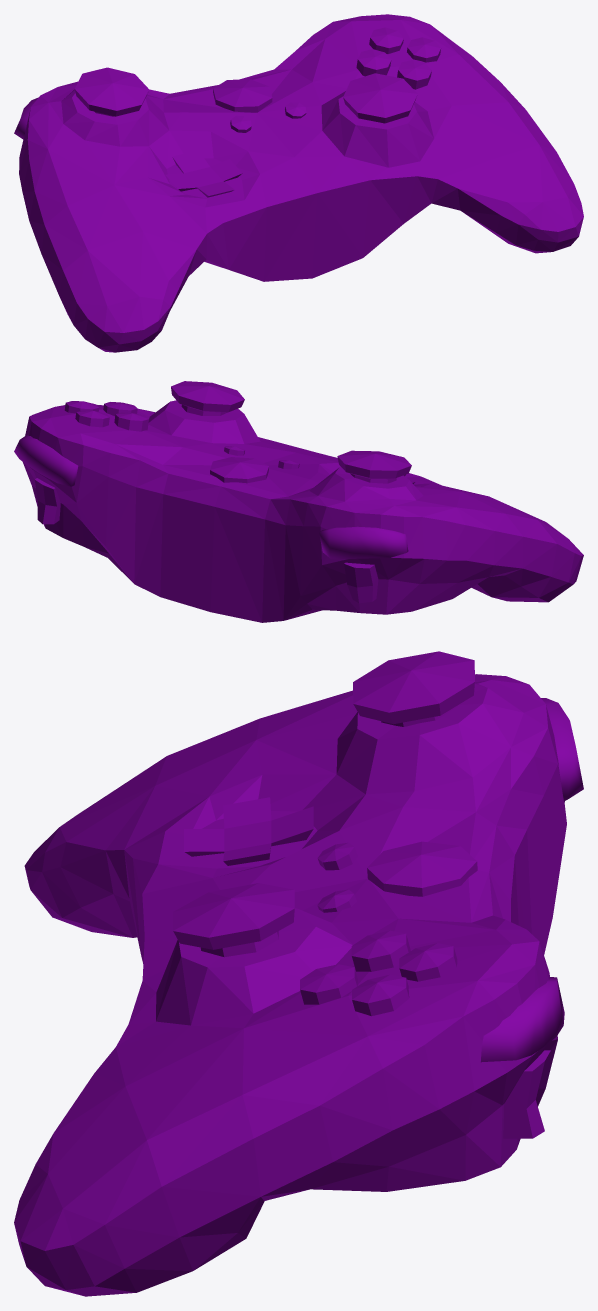
File: Xbox_Controller_LP.glb
3 renders of one model, top to bottom at view 1: azimuth 30°, elevation 25°; view 2: azimuth 150°, elevation 25°; view 3: azimuth 270°, elevation 25°, orthographic. The views are drawn at different scales.
Parts seen in each view (by area): view 1: 25_surf0000_1_0_0_root_root ground.003 (×7); view 2: 25_surf0000_1_0_0_root_root ground.003 (×7); view 3: 25_surf0000_1_0_0_root_root ground.003 (×8).
Part boxes in pixels (bbox=[...]): 25_surf0000_1_0_0_root_root ground.003 (×7): bbox=[14, 14, 583, 352]; 25_surf0000_1_0_0_root_root ground.003 (×7): bbox=[14, 381, 583, 622]; 25_surf0000_1_0_0_root_root ground.003 (×8): bbox=[14, 651, 583, 1296].
Bounding box in the file's own units: 3.6 × 1.27 × 2.03.
